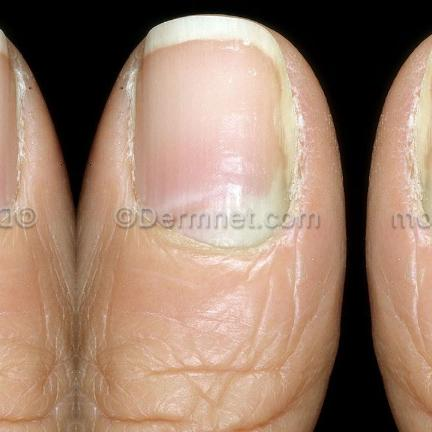Nail: (129, 15, 297, 253), (0, 31, 21, 223), (414, 44, 432, 239)
